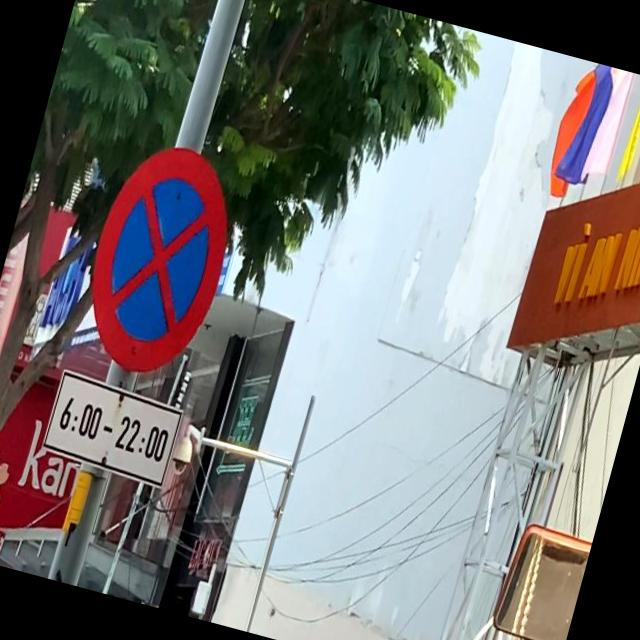P-130: (70, 136, 248, 384)
